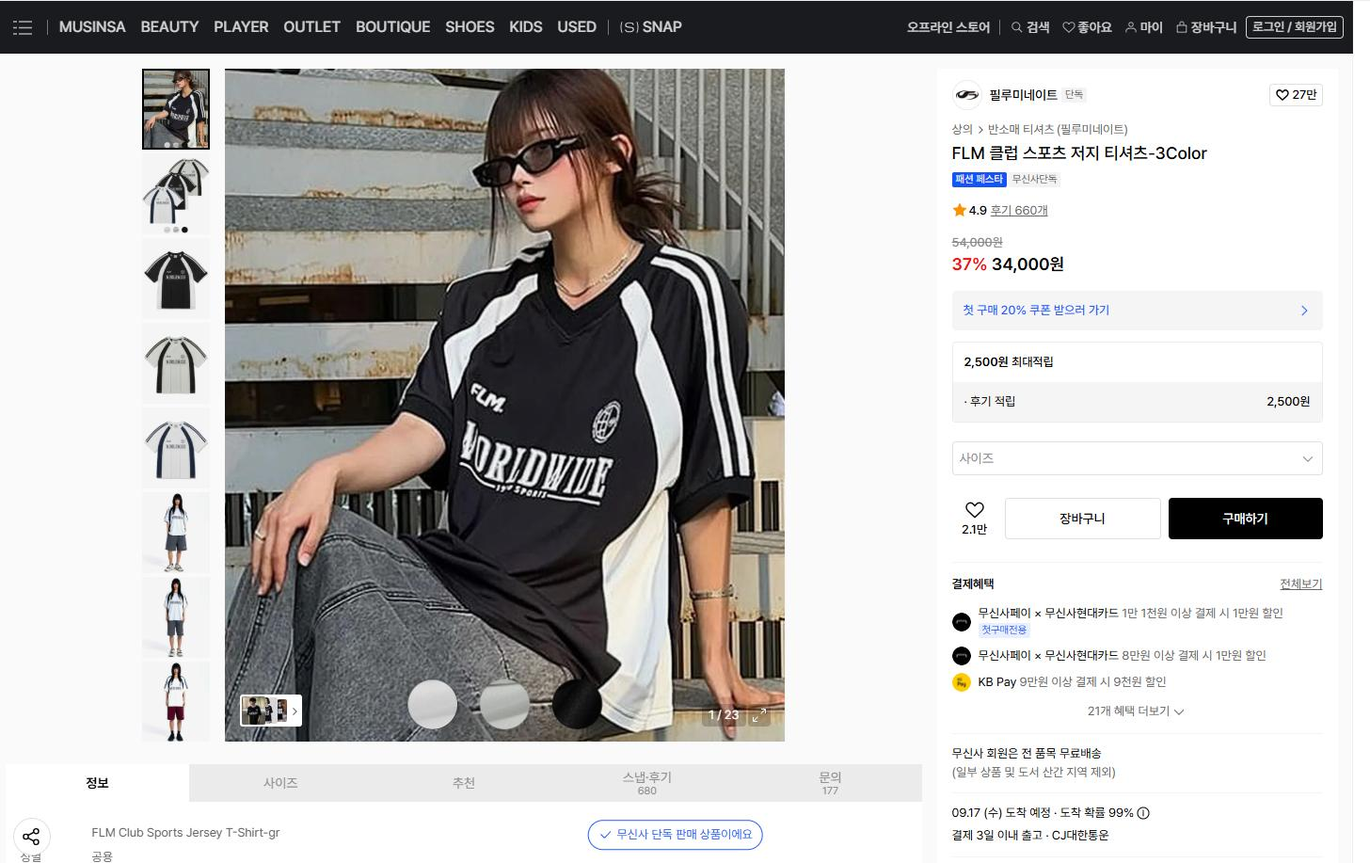button: (964, 292, 1318, 324), (559, 762, 726, 803), (1166, 500, 1329, 540), (749, 769, 919, 805), (143, 66, 213, 151), (1006, 502, 1157, 538), (142, 161, 209, 241), (26, 768, 178, 803), (203, 771, 380, 801), (146, 585, 212, 660), (146, 247, 208, 319), (145, 494, 205, 568), (405, 767, 528, 802), (151, 415, 212, 482), (145, 335, 208, 395), (156, 669, 211, 735), (62, 7, 145, 46), (1256, 16, 1342, 36), (355, 16, 439, 34), (203, 21, 279, 39), (1278, 574, 1329, 598), (610, 19, 680, 35), (961, 494, 993, 529), (1276, 79, 1326, 101), (899, 22, 989, 34), (282, 19, 333, 39), (436, 14, 482, 36), (139, 14, 187, 35), (1180, 20, 1236, 36), (947, 173, 1006, 187), (1017, 168, 1062, 186), (508, 19, 545, 39), (1014, 21, 1067, 34), (554, 15, 590, 33), (1069, 19, 1108, 34), (1123, 18, 1157, 32)
checkbox: (956, 444, 1322, 478)
